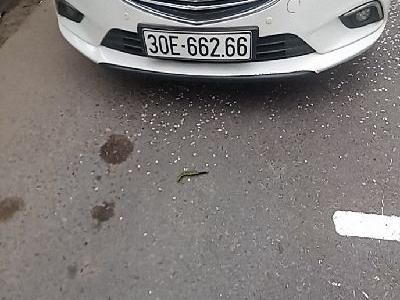car: (141, 26, 256, 61)
